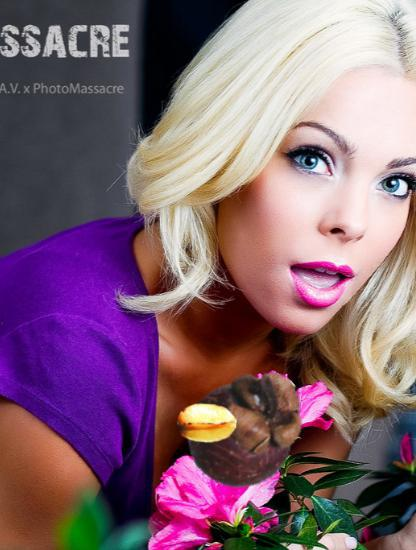Carambula: (177, 393, 237, 453)
Mangostan: (184, 365, 313, 494)
